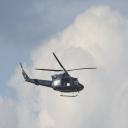helicopter: (19, 52, 99, 100)
